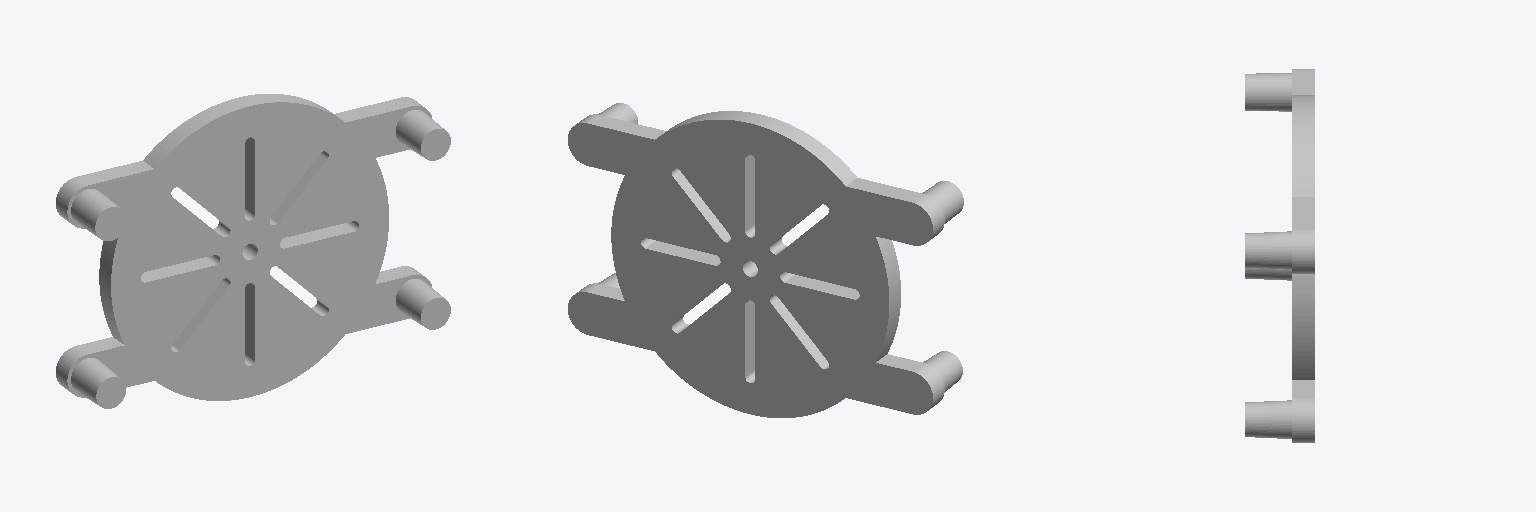
Rendered from V5_Laser Alignment Tool V1.obj.
3 views of the same model, side by side, from view 1: azimuth 30°, elevation 25°; view 2: azimuth 150°, elevation 25°; view 3: azimuth 270°, elevation 25° (orthographic).
Visible parts, largest first — view 1: Solid1:7; view 2: Solid1:7; view 3: Solid1:7.
Part boxes in pixels (x1,y1,x2,y2): Solid1:7: (56,94,450,408); Solid1:7: (568,103,963,417); Solid1:7: (1245,69,1314,442).
Bounding box in the file's own units: 44.8 × 34.1 × 7.5.